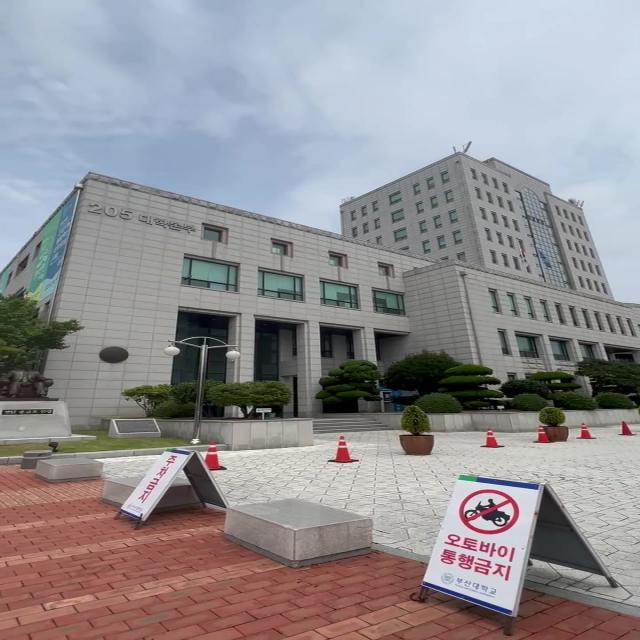building: (61, 133, 599, 348)
